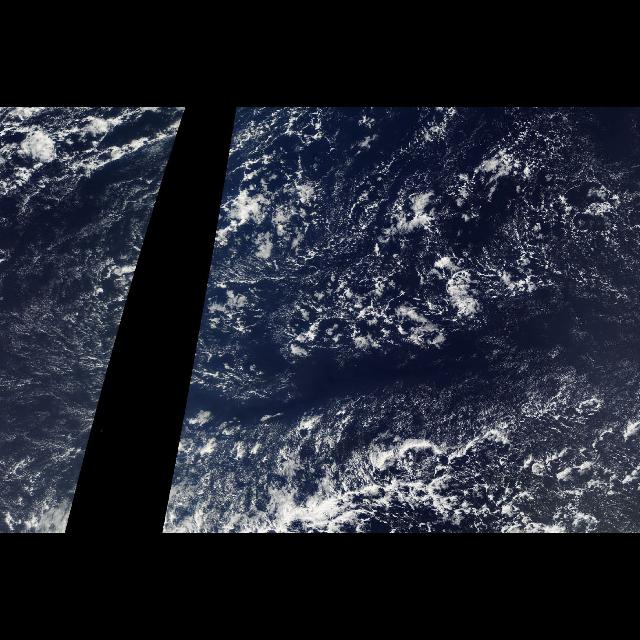Fish: (161, 400, 637, 532)
Gravel: (161, 112, 639, 534), (146, 115, 184, 238)
Sugar: (0, 196, 120, 472)
